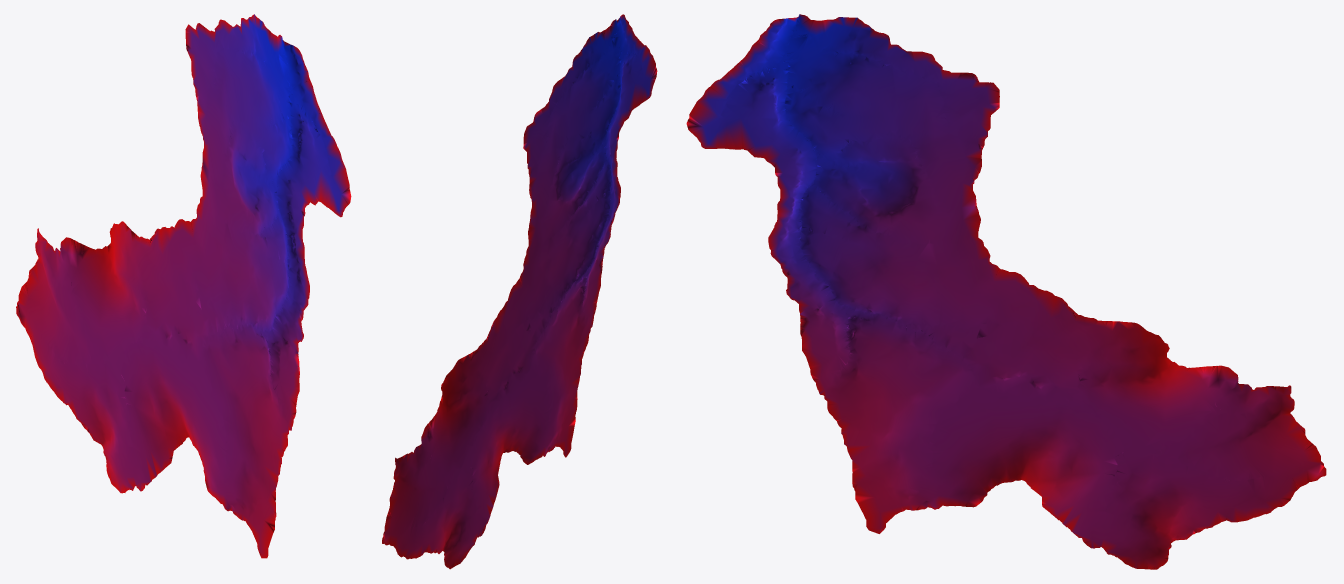
Rendered from ms2_s1z1_notree.gltf.
3 views of the same model, side by side, from view 1: azimuth 30°, elevation 25°; view 2: azimuth 150°, elevation 25°; view 3: azimuth 270°, elevation 25° (orthographic). The views are drawn at different scales.
Bounding box in the file's own units: 172 × 3182 × 3410.
1 material, 1 textured.
